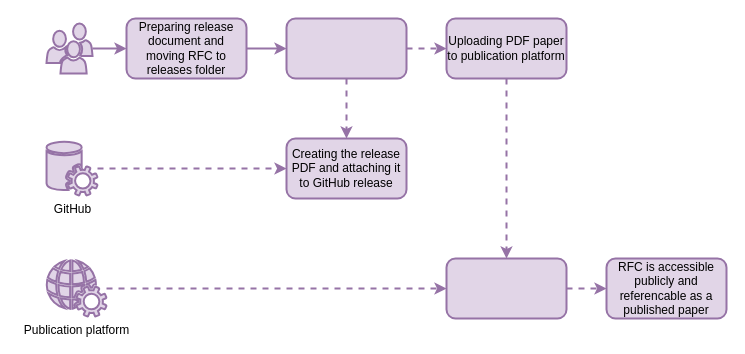
Some shapes in this 745 by 354 pixel diagram are drawn without their labels. The shapes that lost their labels are listed below. From the top down, each one's box as (x1, y1, x2, y2) in pixels, then its label:
(45, 22, 93, 74): RFC Editorial Team
(285, 17, 407, 79): Triggering a GitHub release by pushing a release branch
(445, 257, 567, 319): Hosting RFC paper
